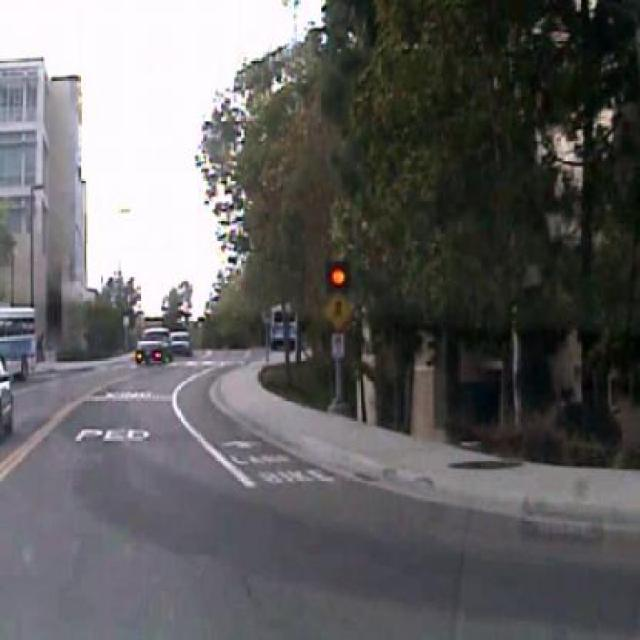pedestrianCrossing: (323, 289, 354, 331)
